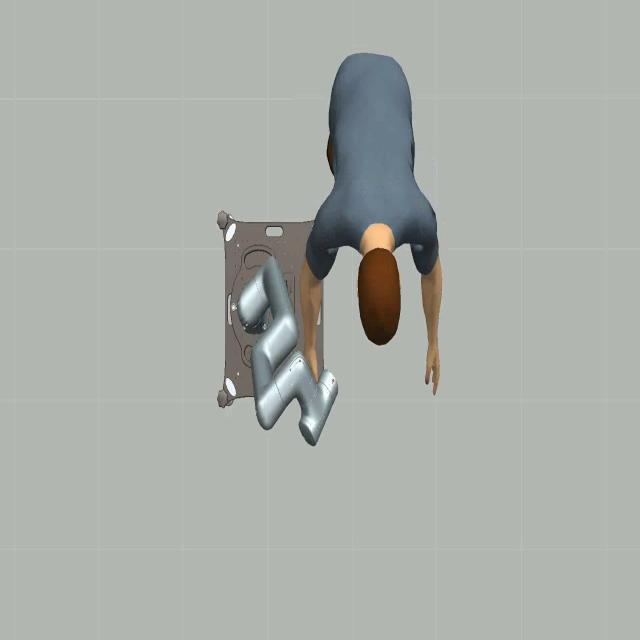human: (299, 40, 449, 424)
robot: (216, 245, 348, 446)
